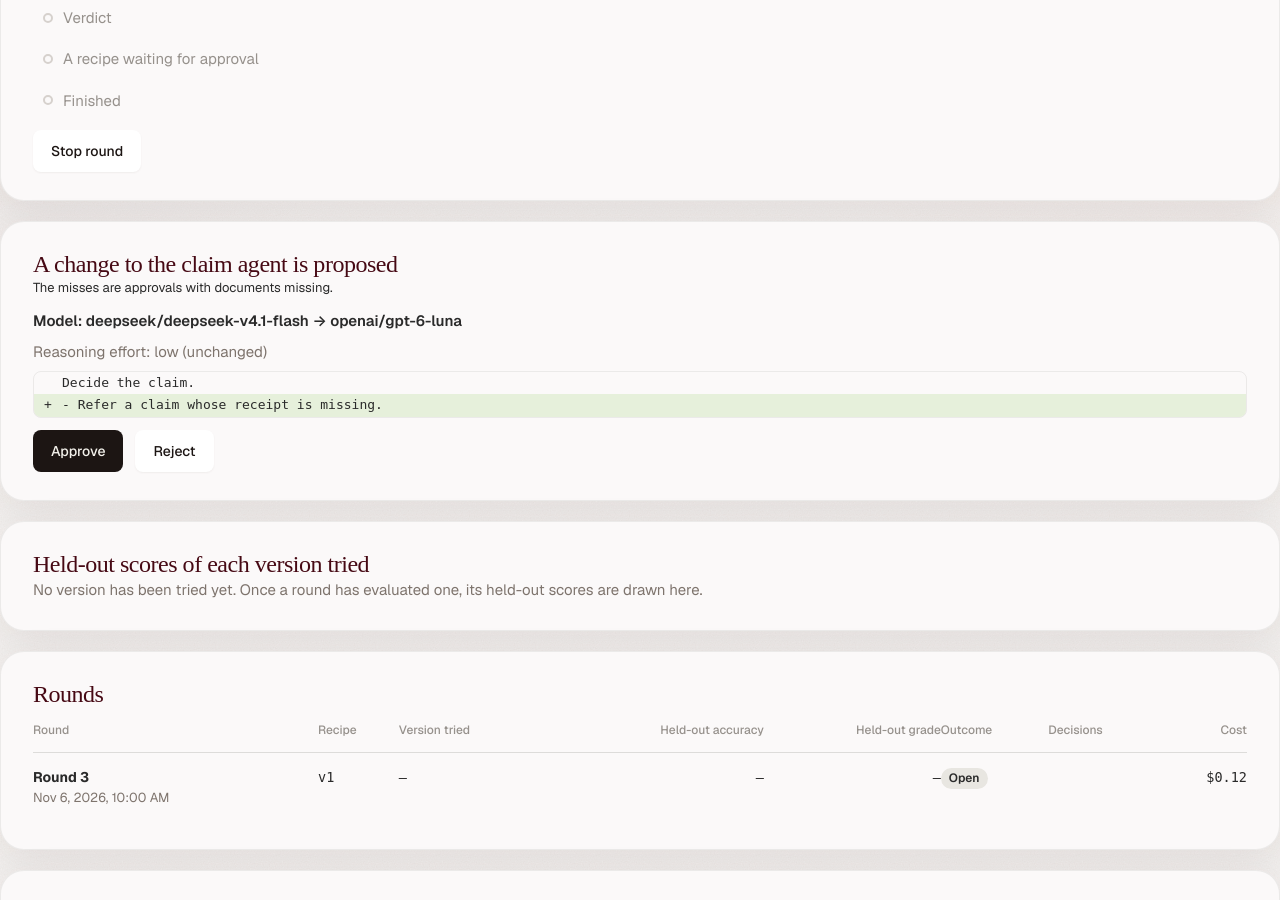
Test: Improvement › needs a reason to reject, and sends it
This screenshot has width=1280, height=900.
Later steps or results of the test are not shown.
(page scrolled)
Click the button "Reject" at (175, 450), box x1=136 y1=430 x2=214 y2=472
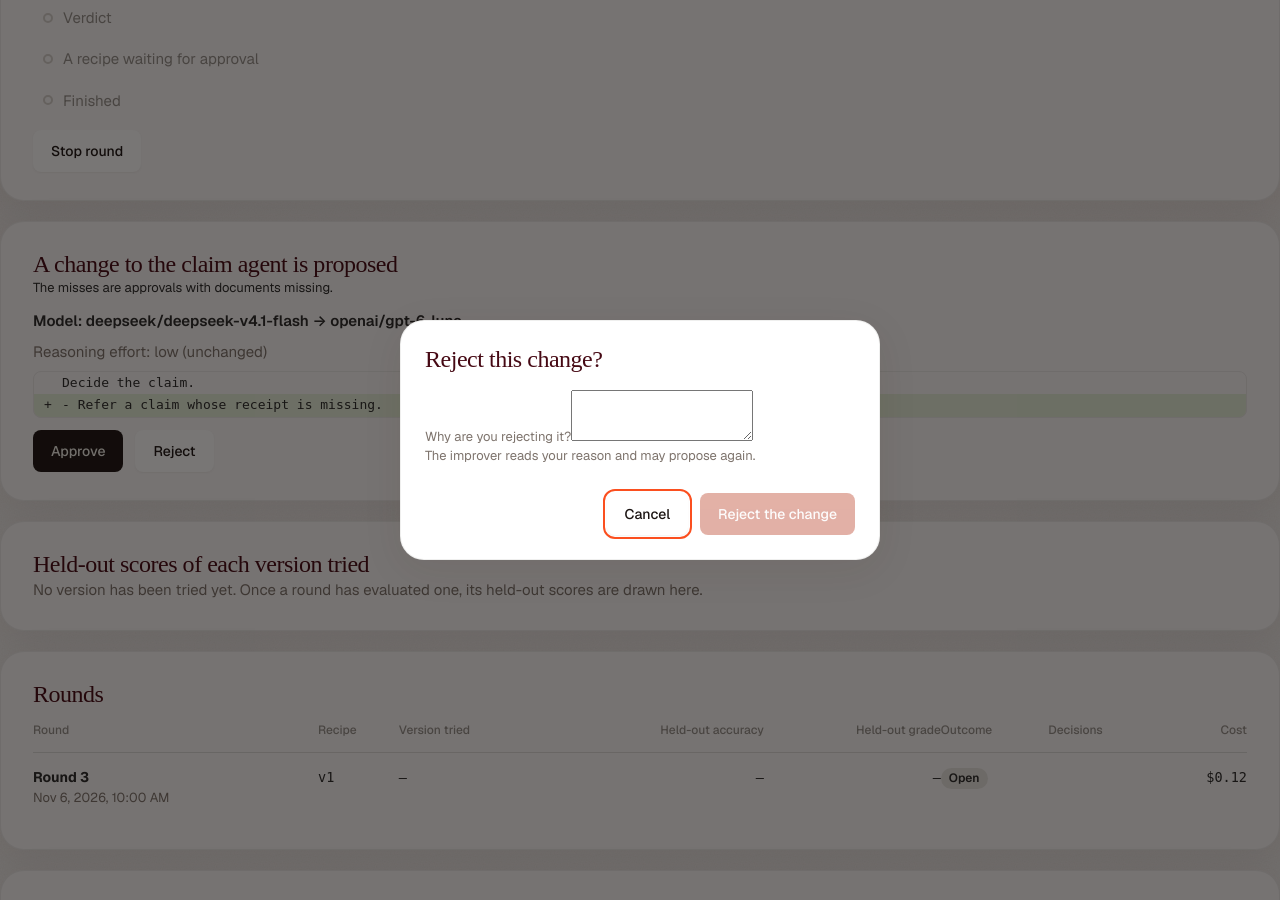
Now the button "Reject the change" is disabled, box x1=700 y1=493 x2=855 y2=535
Type "Name the section." into the text box labelled "Why are you rejecting it?" at (662, 415), box x1=571 y1=390 x2=753 y2=441
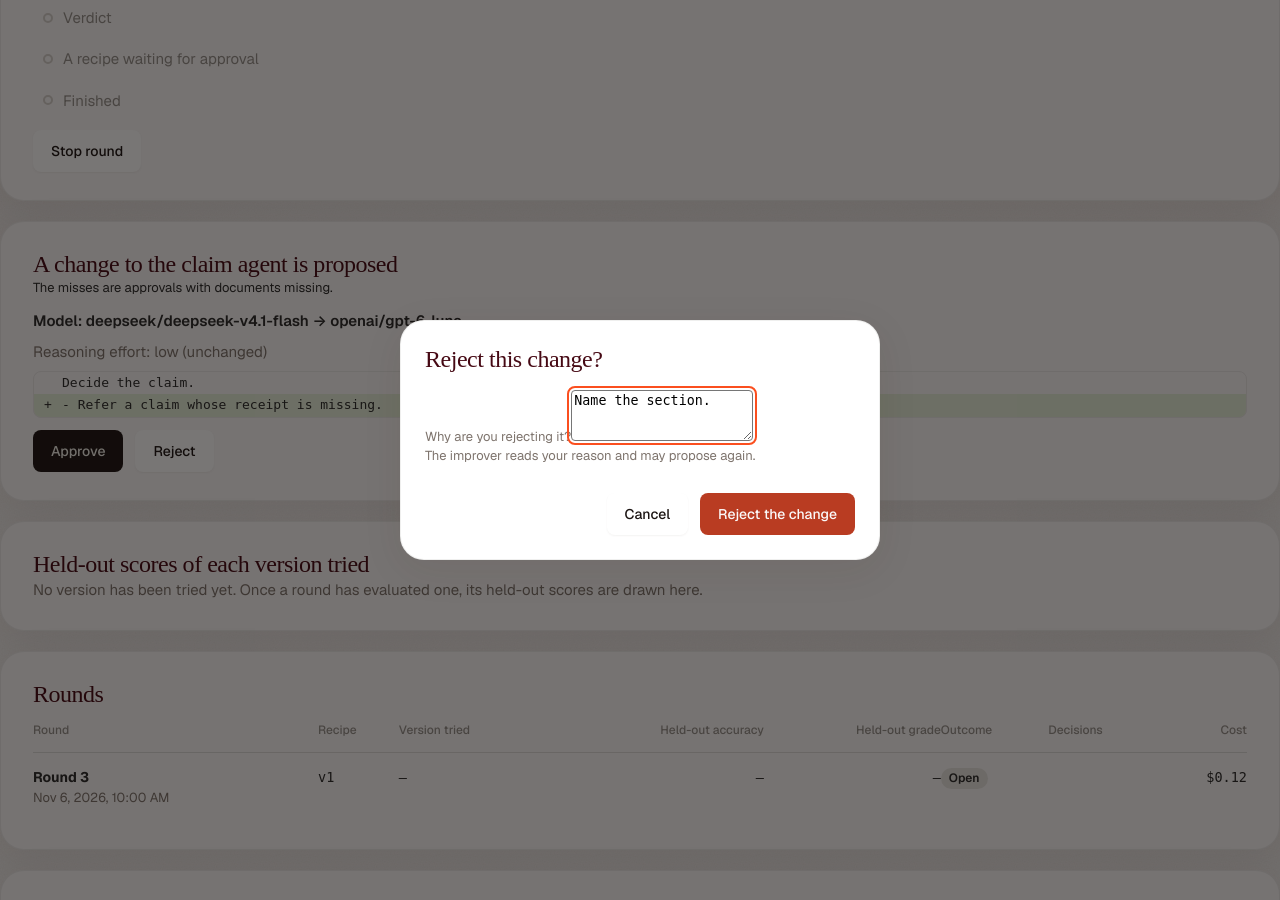
Now the button "Reject the change" is enabled, box x1=700 y1=493 x2=855 y2=535
